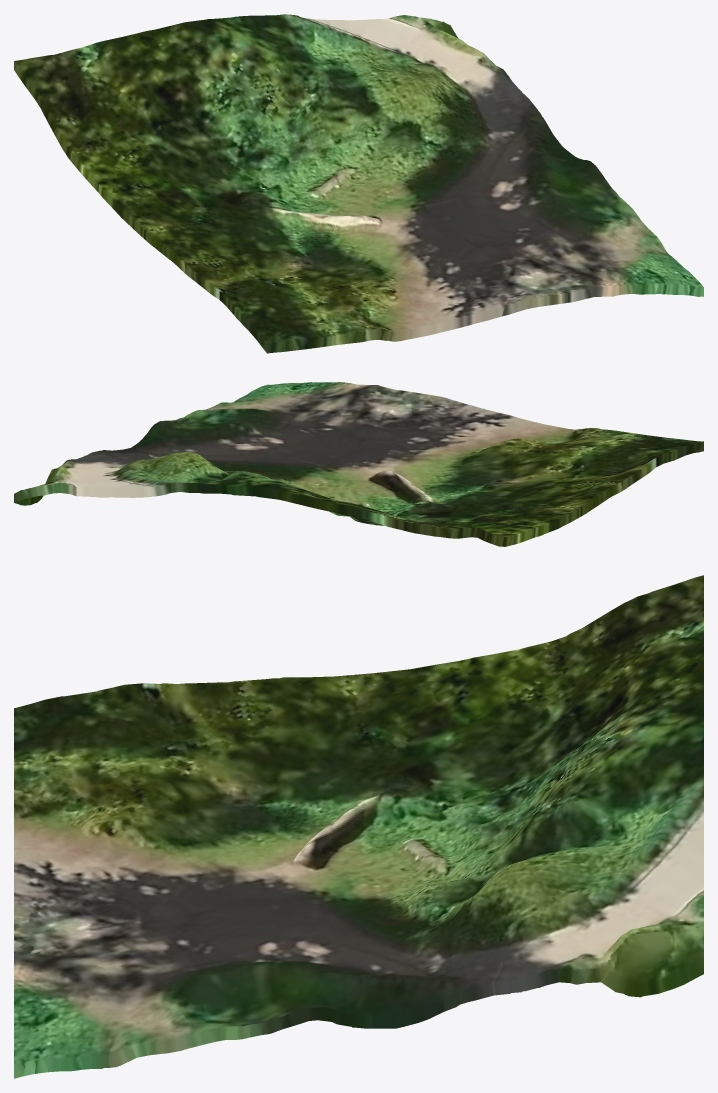
File: z20-167553-405172-h0-yup-uvflip-v3-world.glb
3 renders of one model, top to bottom at view 1: azimuth 30°, elevation 25°; view 2: azimuth 150°, elevation 25°; view 3: azimuth 270°, elevation 25°, orthographic. The views are drawn at different scales.
Size of the model in its own units: 30.16 by 10.36 by 30.32.
Materials: 1 (1 with a texture image).
